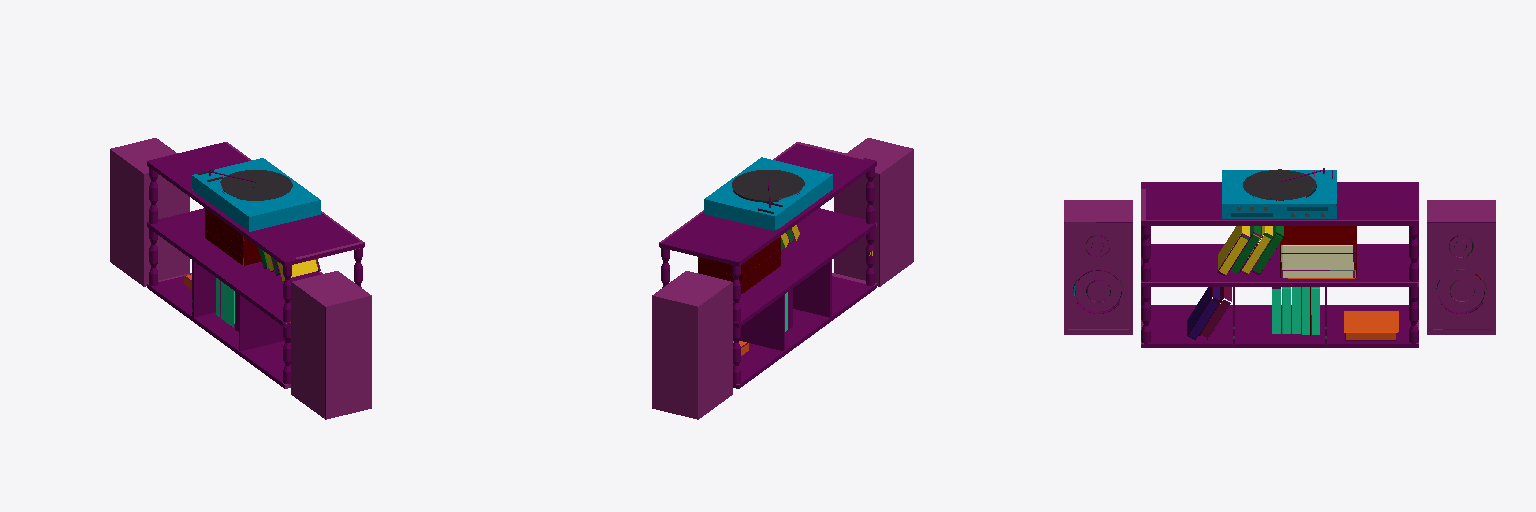
The picture shows the model from 3 angles: view 1: azimuth 30°, elevation 25°; view 2: azimuth 150°, elevation 25°; view 3: azimuth 270°, elevation 25°; orthographic projection.
Parts seen in each view (by area): view 1: Cube.019; view 2: Cube.019; view 3: Cube.019.
Part boxes in pixels (bbox=[...]): Cube.019: bbox=[110, 138, 371, 419]; Cube.019: bbox=[652, 138, 913, 419]; Cube.019: bbox=[1064, 168, 1495, 347].
Bounding box in the file's own units: 4.86 × 8.74 × 22.63.
3 materials, 1 textured.